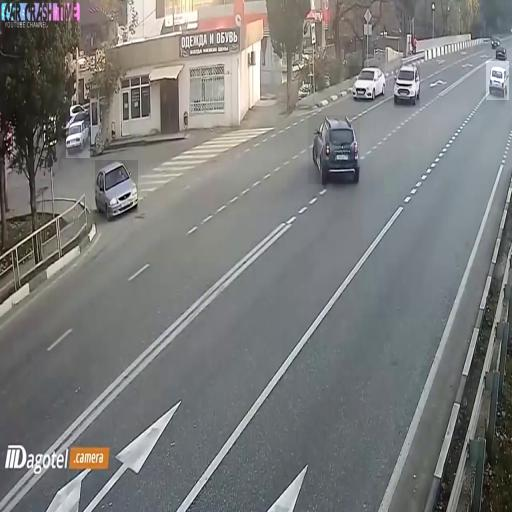小汽车: (308, 115, 360, 184), (95, 160, 138, 213), (349, 66, 385, 100), (394, 66, 420, 108), (486, 61, 509, 100), (66, 121, 90, 158)
